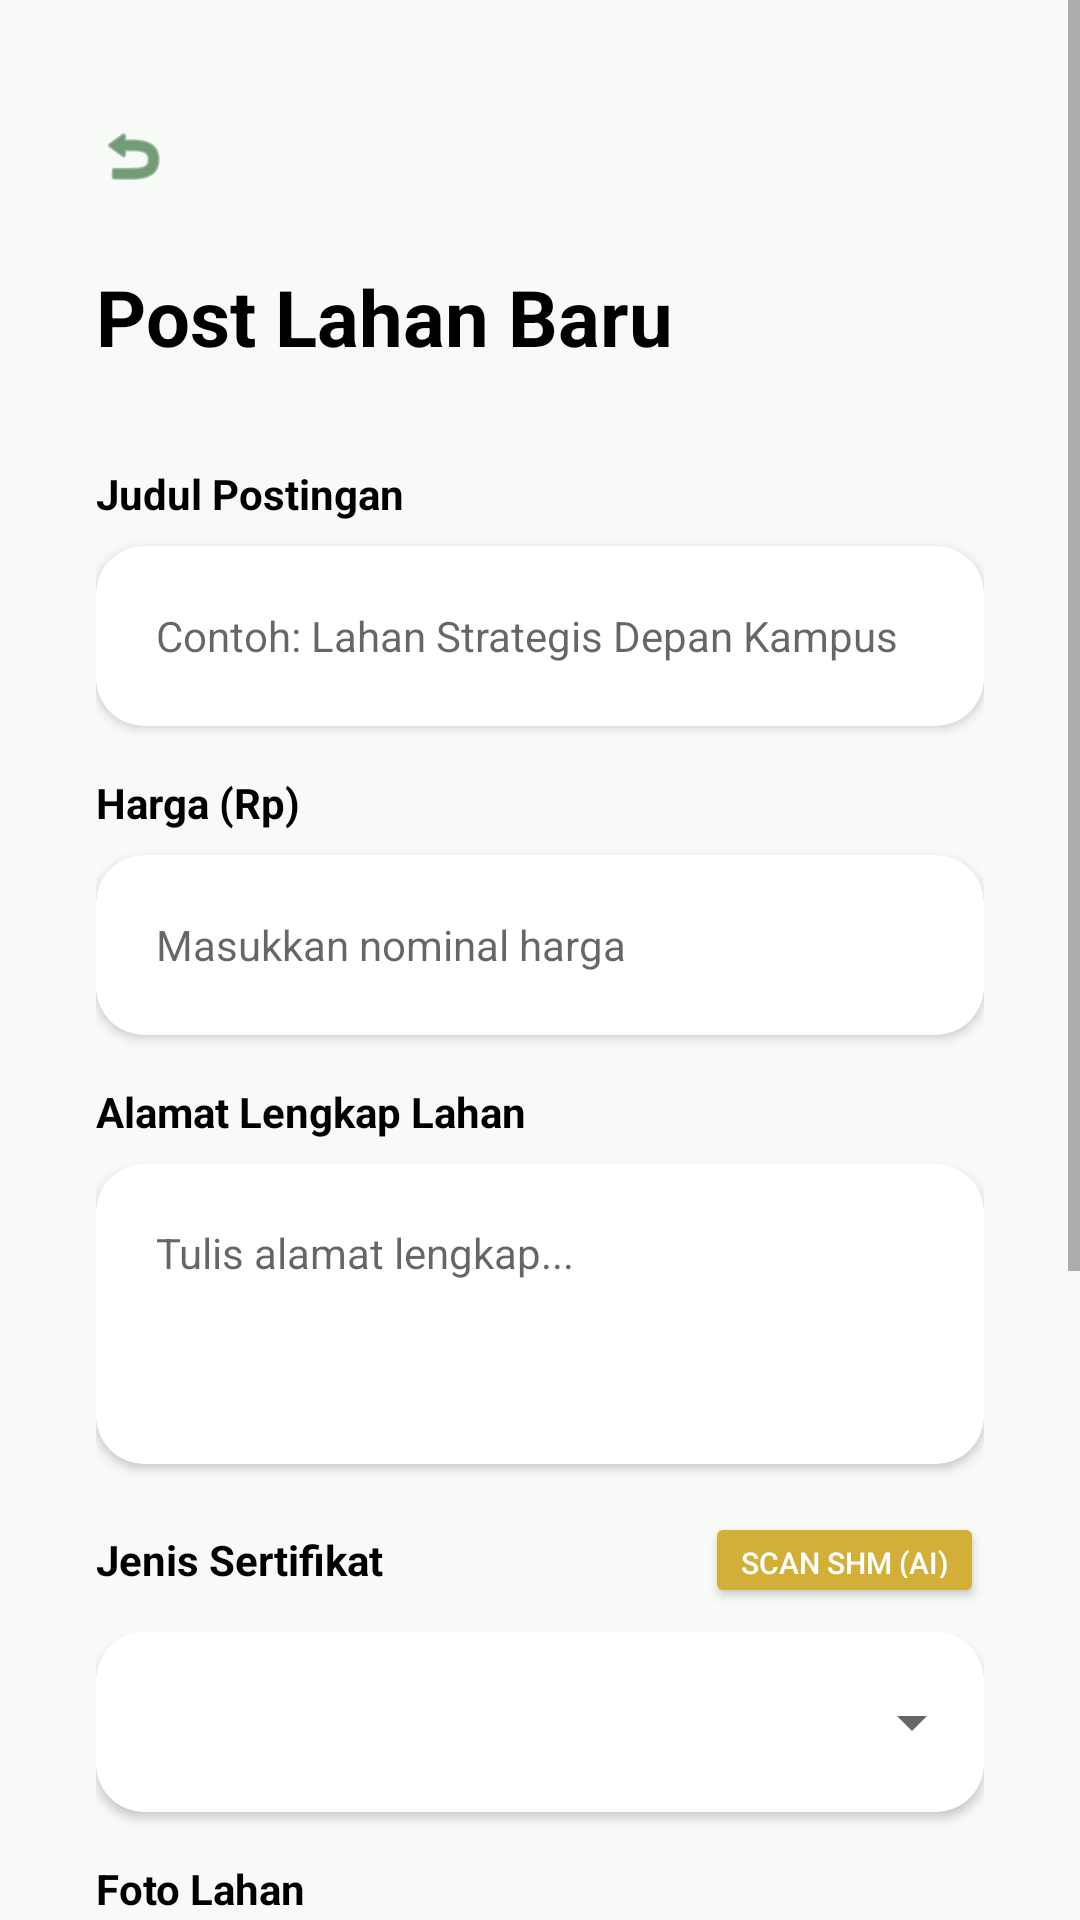

Point at icon controls on the screen. Image size 1080px×1920px, points as (x,y).
revert: (134,156)
